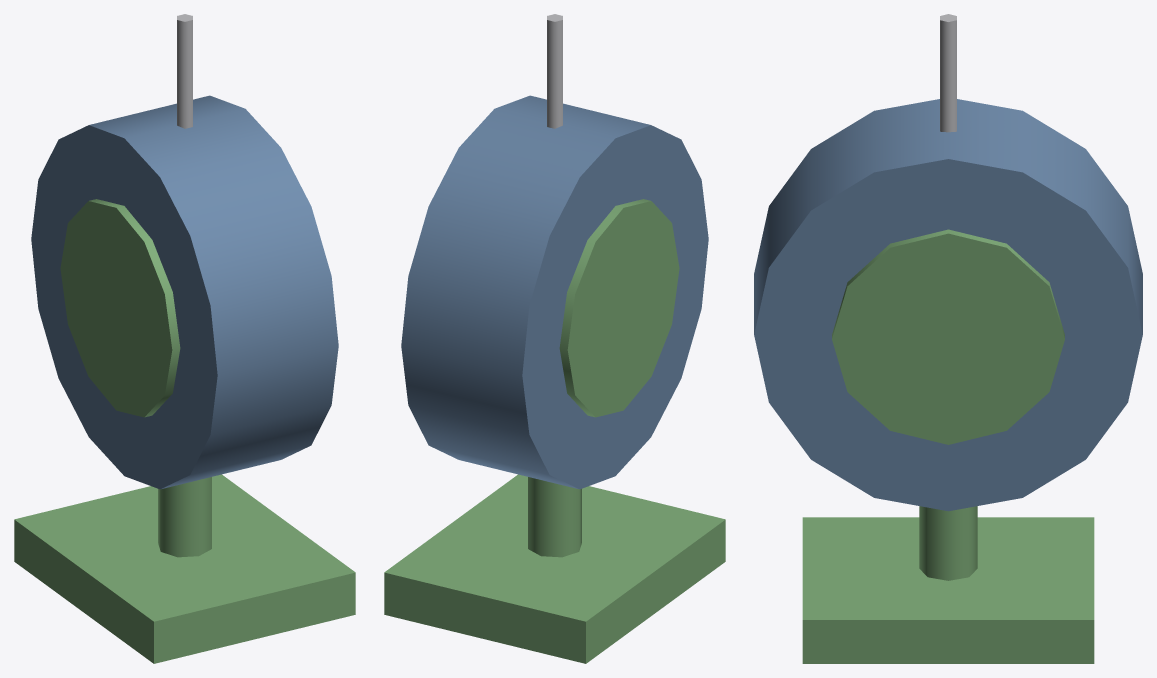
The model's file is garden_hose_reel.glb.
3 views of the same model, side by side, from view 1: azimuth 30°, elevation 25°; view 2: azimuth 150°, elevation 25°; view 3: azimuth 270°, elevation 25° (orthographic). The views are drawn at different scales.
Parts seen in each view (by area): view 1: reel_outer, base, reel_inner, post, handle; view 2: reel_outer, base, reel_inner, post, handle; view 3: reel_outer, base, reel_inner, post, handle.
Boxes of the visible parts, left/top/right/bottom form: reel_outer: left=31, top=95, right=338, bottom=489; base: left=14, top=474, right=355, bottom=663; reel_inner: left=60, top=199, right=180, bottom=417; post: left=158, top=477, right=211, bottom=557; handle: left=177, top=14, right=192, bottom=128; reel_outer: left=401, top=95, right=708, bottom=489; base: left=384, top=474, right=725, bottom=663; reel_inner: left=559, top=199, right=679, bottom=417; post: left=528, top=477, right=581, bottom=557; handle: left=547, top=14, right=562, bottom=128; reel_outer: left=754, top=99, right=1142, bottom=511; base: left=802, top=517, right=1094, bottom=663; reel_inner: left=832, top=229, right=1064, bottom=444; post: left=919, top=506, right=977, bottom=580; handle: left=940, top=14, right=956, bottom=132.
Bounding box in the file's own units: 0.25 × 0.675 × 0.4.
